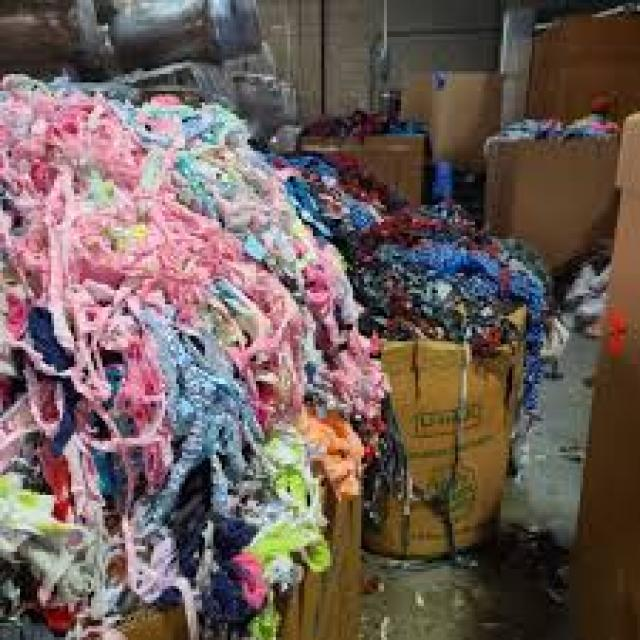paper: (559, 116, 640, 640), (361, 344, 508, 556), (485, 138, 623, 257), (273, 493, 365, 640), (523, 11, 640, 121), (298, 138, 426, 205), (400, 76, 503, 157), (117, 611, 177, 640)
